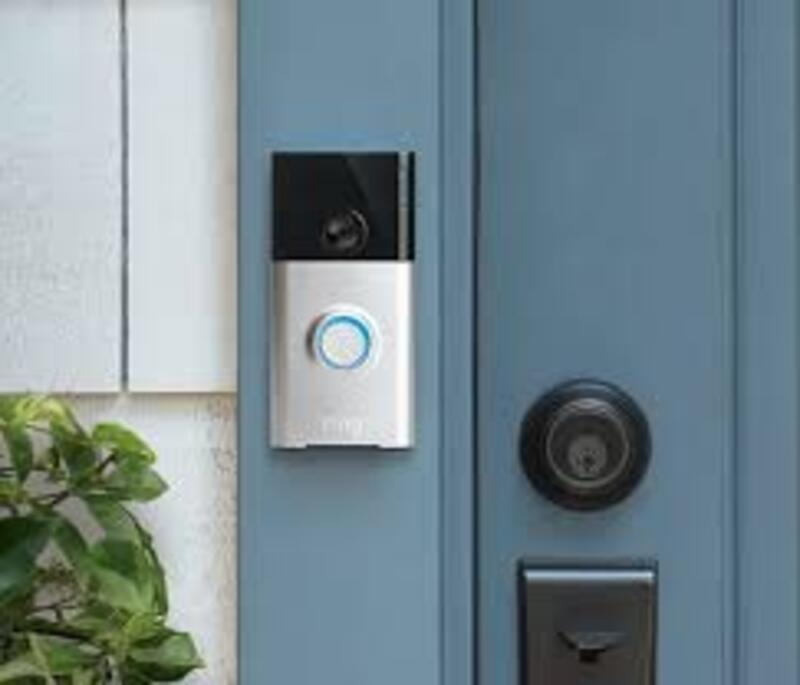doorbell: (267, 138, 419, 472)
